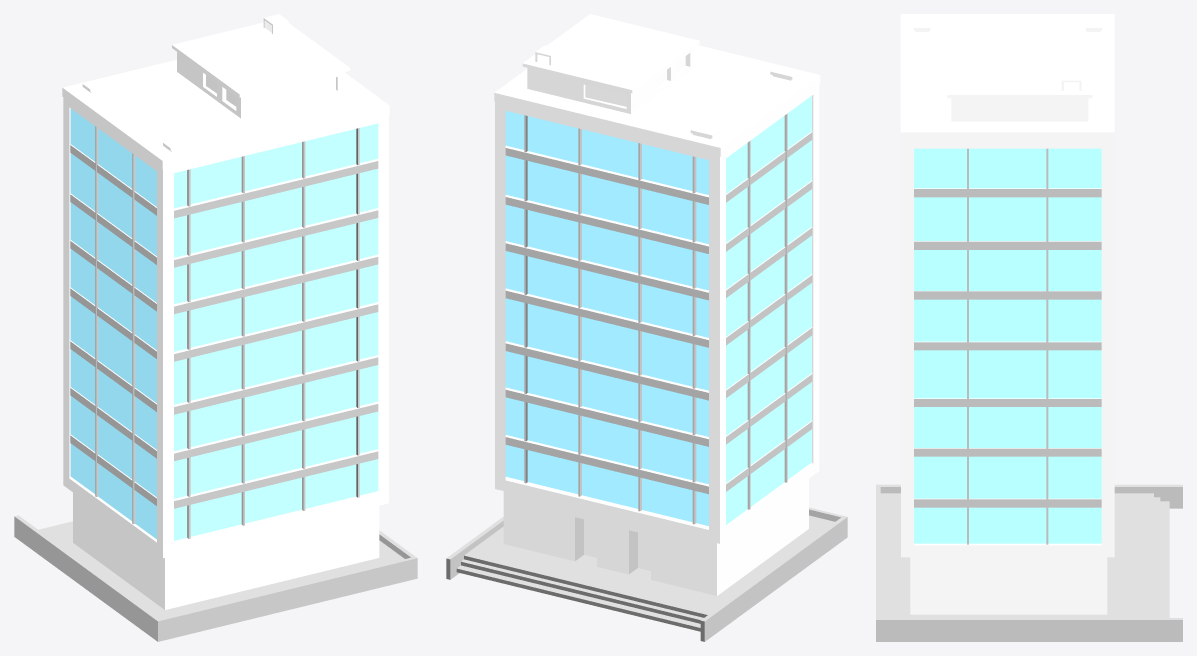
File: business centers.002.glb
3 views of the same model, side by side, from view 1: azimuth 30°, elevation 25°; view 2: azimuth 150°, elevation 25°; view 3: azimuth 270°, elevation 25° (orthographic). The views are drawn at different scales.
Visible parts, largest first — view 1: business centers.002(Clone); view 2: business centers.002(Clone); view 3: business centers.002(Clone).
Boxes of the visible parts, bbox=[...] form: business centers.002(Clone): bbox=[14, 14, 417, 641]; business centers.002(Clone): bbox=[446, 14, 847, 641]; business centers.002(Clone): bbox=[876, 14, 1182, 641].
Size of the model in its own units: 14.44 by 26.82 by 13.84.
1 material, 1 textured.
